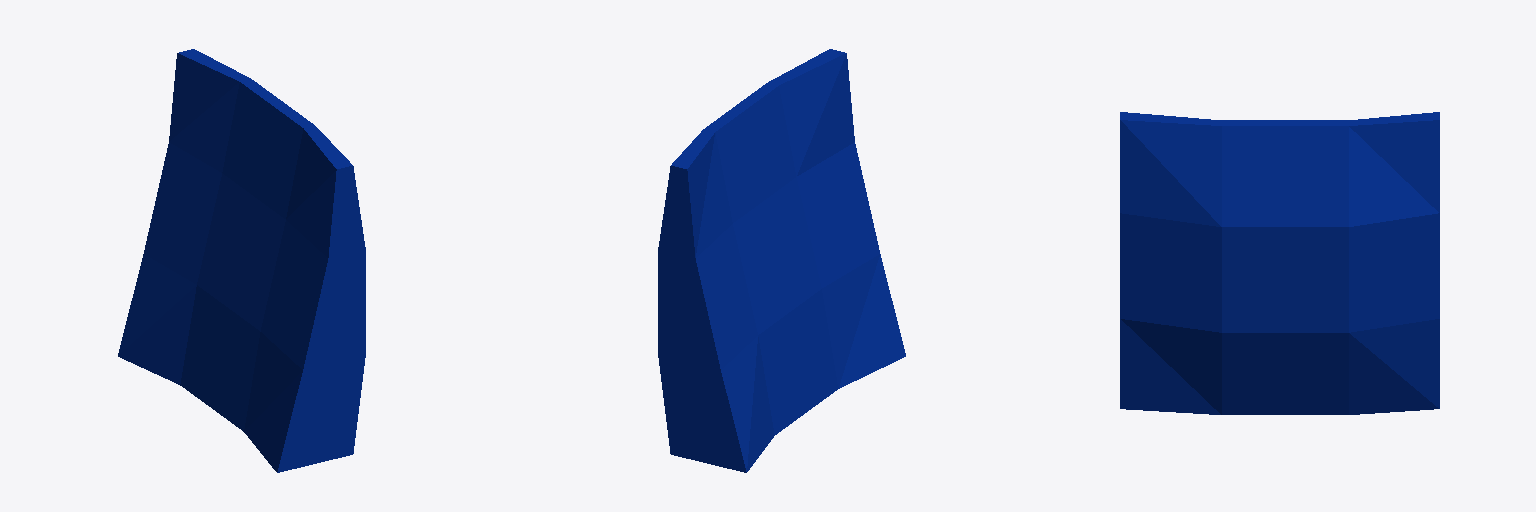
The model's file is Wall.obj.
3 views of the same model, side by side, from view 1: azimuth 30°, elevation 25°; view 2: azimuth 150°, elevation 25°; view 3: azimuth 270°, elevation 25° (orthographic).
Parts seen in each view (by area): view 1: Cube; view 2: Cube; view 3: Cube.
Part boxes in pixels (x1,y1,x2,y2): Cube: (118,49,365,472); Cube: (658,49,905,472); Cube: (1120,112,1439,414).
Size of the model in its own units: 0.8491 by 2 by 2.